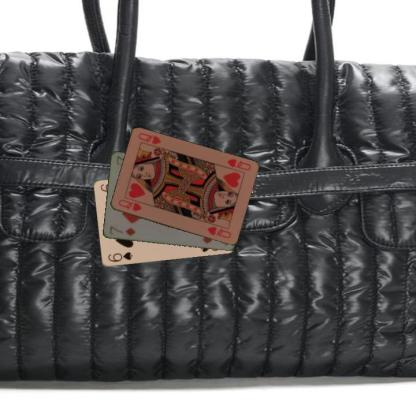6s: (105, 249, 134, 264)
7d: (107, 223, 136, 238)
Qh: (224, 156, 252, 172), (116, 197, 142, 213)
